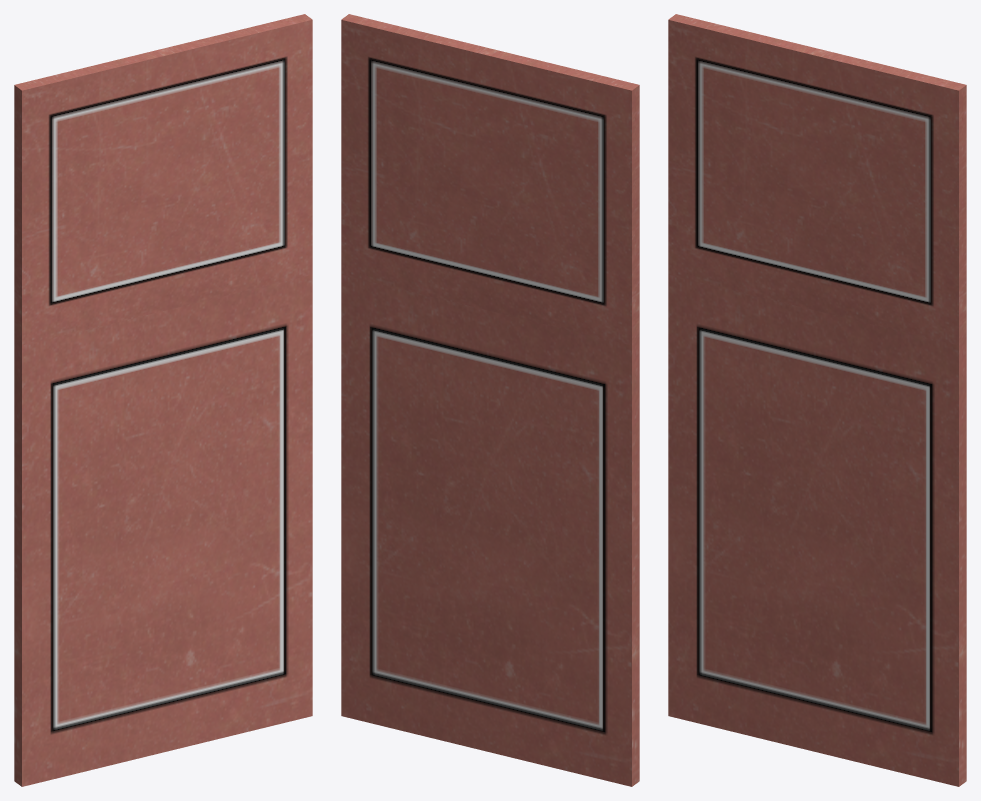
File: SM_SJJ_HG_Wall06C.fbx
3 views of the same model, side by side, from view 1: azimuth 30°, elevation 25°; view 2: azimuth 150°, elevation 25°; view 3: azimuth 330°, elevation 25° (orthographic).
Visible parts, largest first — view 1: SM_SJJ_HG_Wall06C; view 2: SM_SJJ_HG_Wall06C; view 3: SM_SJJ_HG_Wall06C.
Part boxes in pixels (x1,y1,x2,y2): SM_SJJ_HG_Wall06C: [14, 14, 312, 786]; SM_SJJ_HG_Wall06C: [341, 14, 639, 786]; SM_SJJ_HG_Wall06C: [668, 14, 966, 786].
Bounding box in the file's own units: 146 × 6.83 × 335.
Materials: 1 (1 with a texture image).
